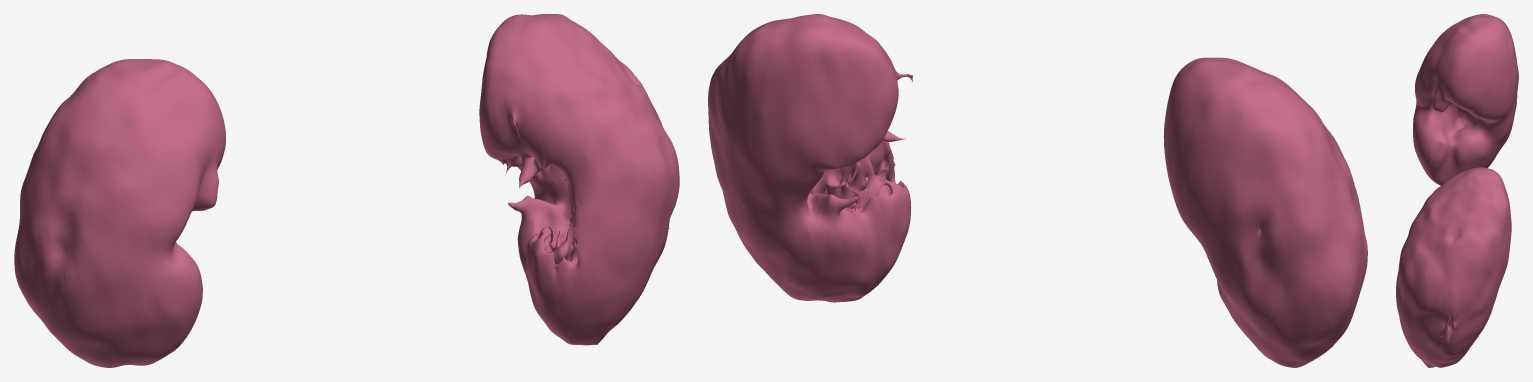
The model's file is cups_left__right_kidney.glb.
3 views of the same model, side by side, from view 1: azimuth 30°, elevation 25°; view 2: azimuth 150°, elevation 25°; view 3: azimuth 270°, elevation 25° (orthographic). The views are drawn at different scales.
Visible parts, largest first — view 1: Object_2; view 2: Object_2; view 3: Object_2.
Boxes of the visible parts, x1,y1,x2,y2 form: Object_2: (14, 14, 679, 367); Object_2: (708, 14, 1367, 367); Object_2: (1396, 14, 1518, 367).
Size of the model in its own units: 198 by 105 by 53.49.
